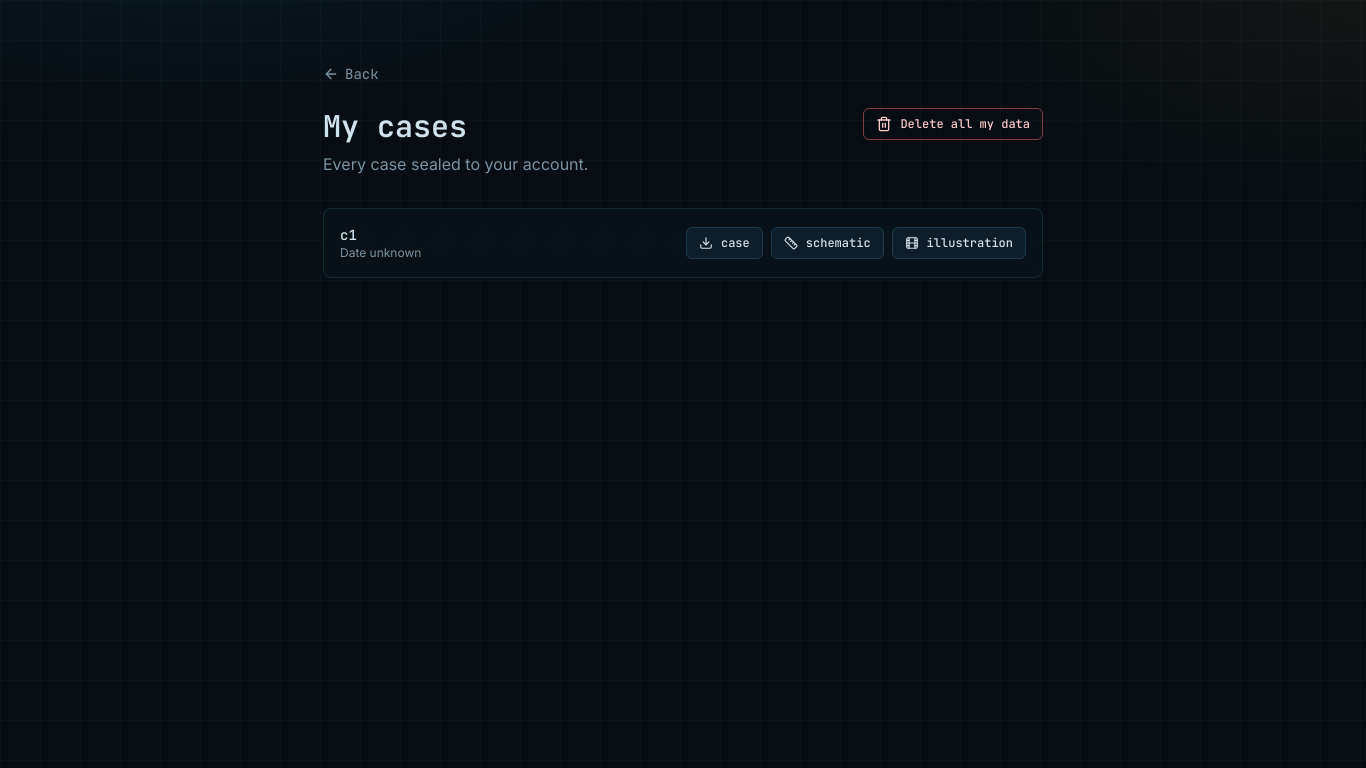
Test case: <MyCases /> — delete all my data › shows an error inside the dialog and keeps it open when the delete fails
The image size is (1366, 768).
Expected: the text "c1" is shown, [340,226,357,244]
Click the button "Delete all my data" at {"x": 953, "y": 124}, box [863,108,1043,140]
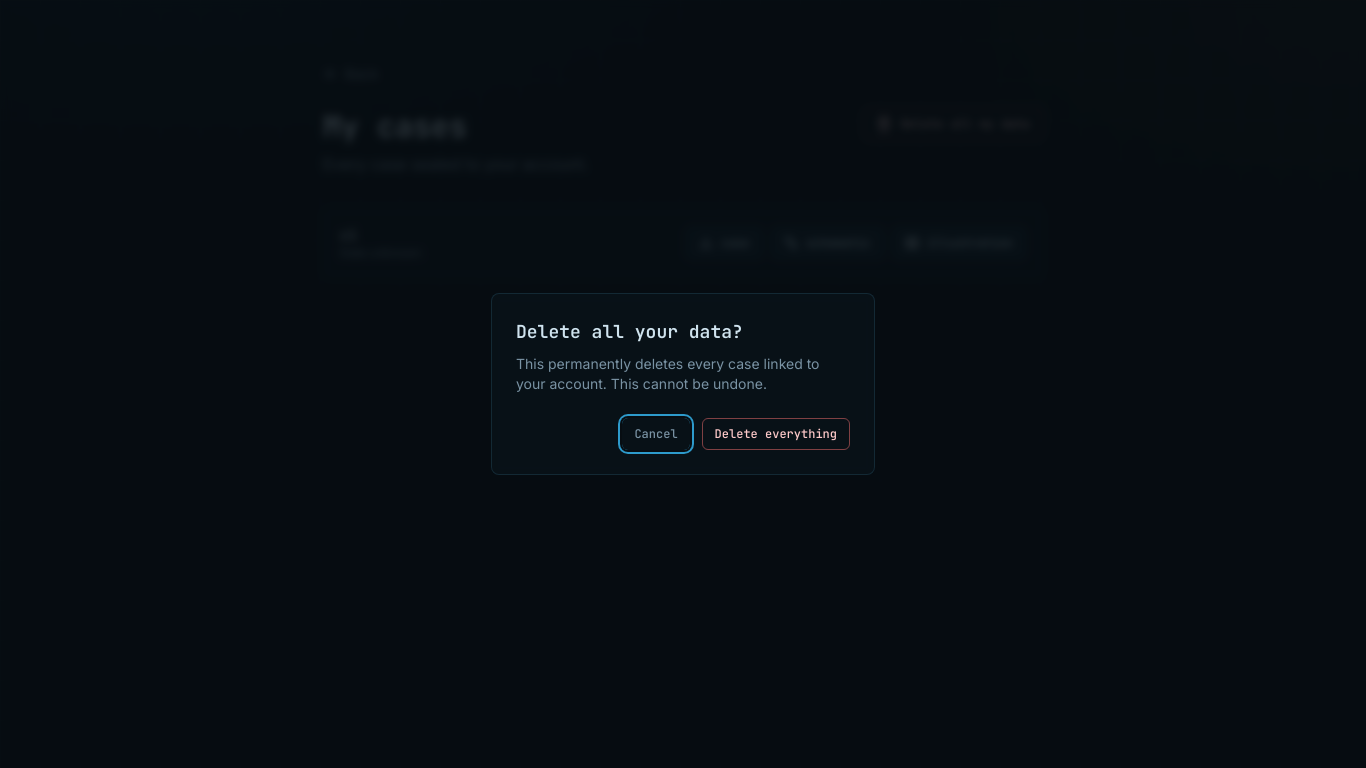
Click the button "Delete everything" at {"x": 776, "y": 434}, box [702,418,850,450]
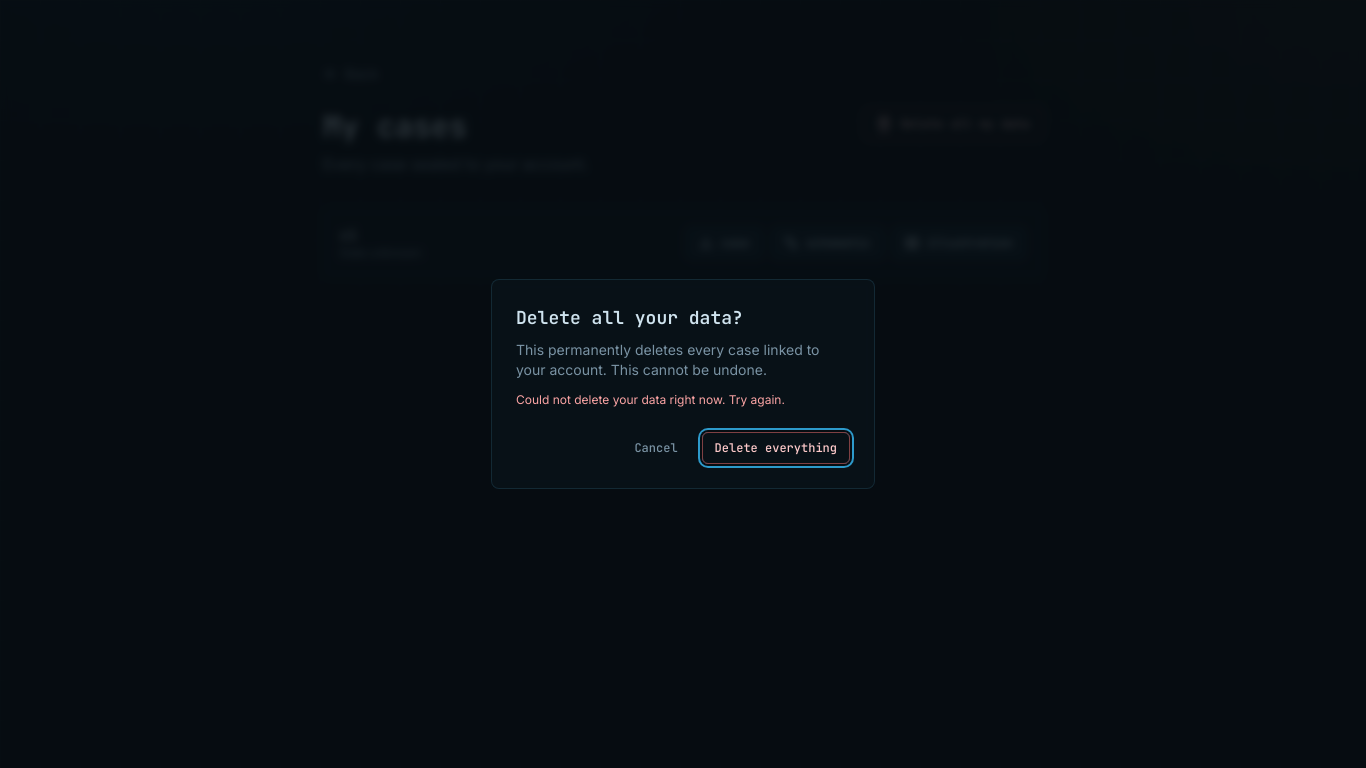
Expected: the dialog is shown, [491,279,875,489]
Expected: the message shows "Could not delete your data", [516,392,785,407]
